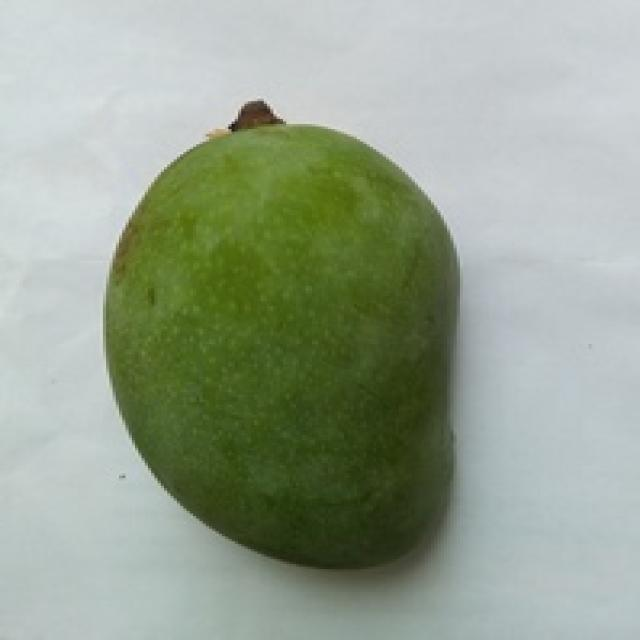Mango: (109, 126, 453, 564)
